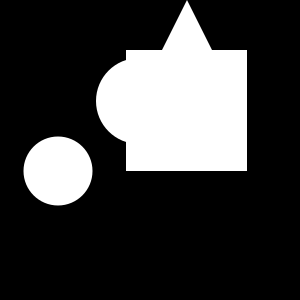circle: (126, 50, 247, 171)
rectangle: (96, 58, 182, 144), (23, 136, 92, 205)
triangle: (138, 0, 236, 98)
